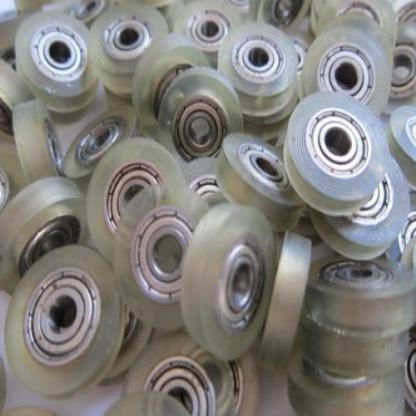FOD: (6, 242, 126, 402), (178, 202, 279, 363), (283, 92, 388, 216), (12, 10, 100, 116)
